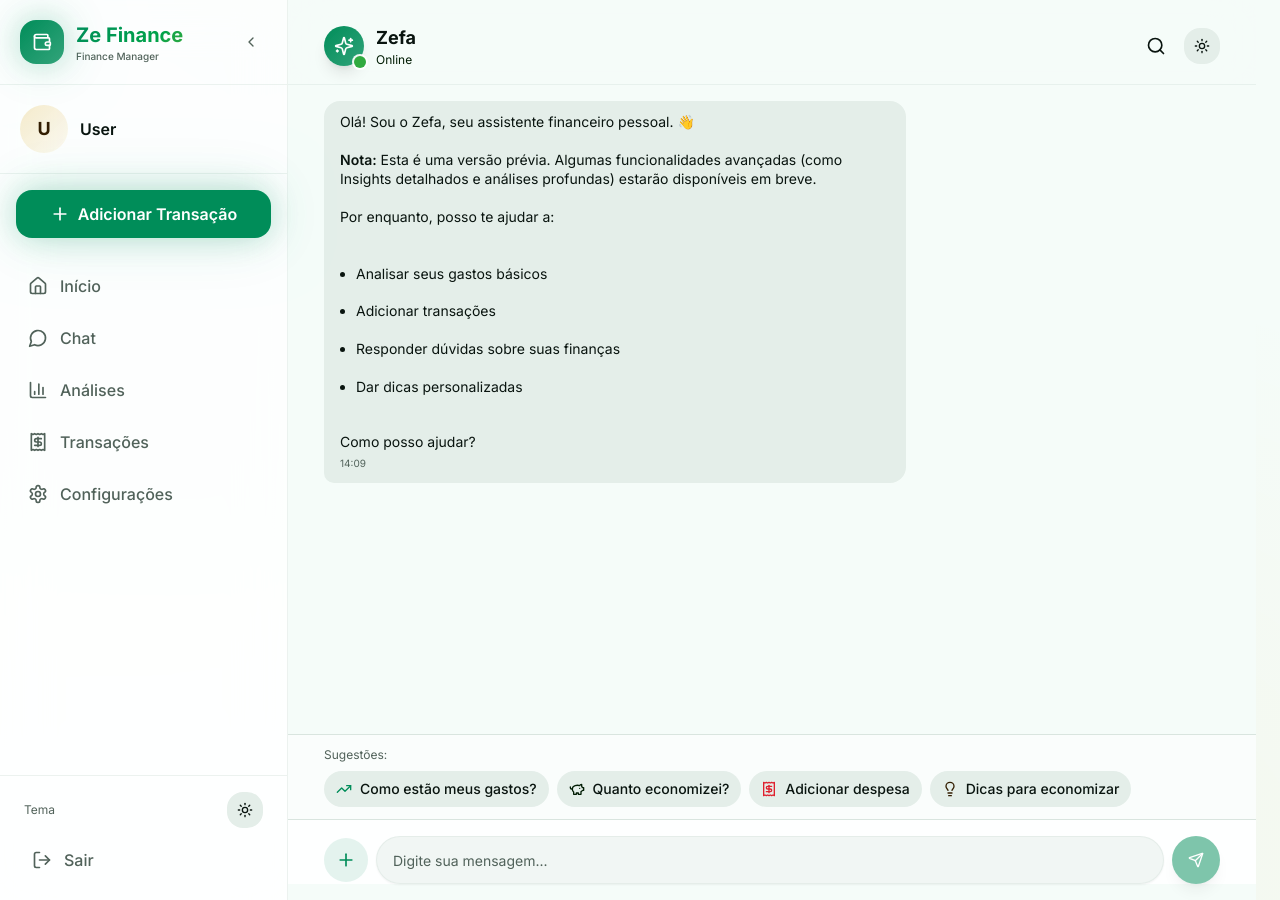
it: Chat Integration Tests › should handle network errors and show retry button
The width and height of the screenshot is (1280, 900).
In the field with placeholder "Digite sua mensagem...": (770, 860) [376,836,1164,884], type "Teste erro"
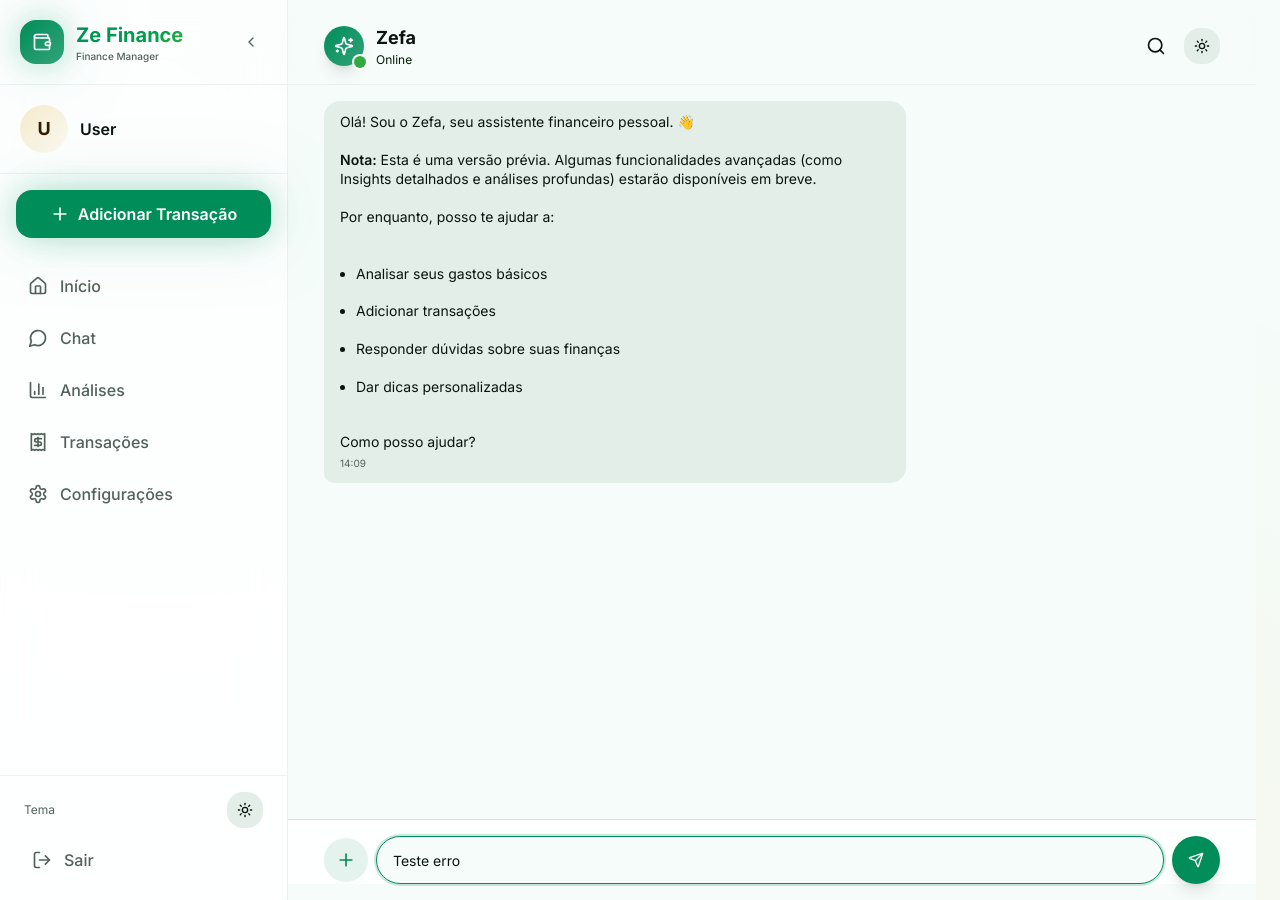
Click the button named "enviar": (1196, 860) [1172,836,1220,884]
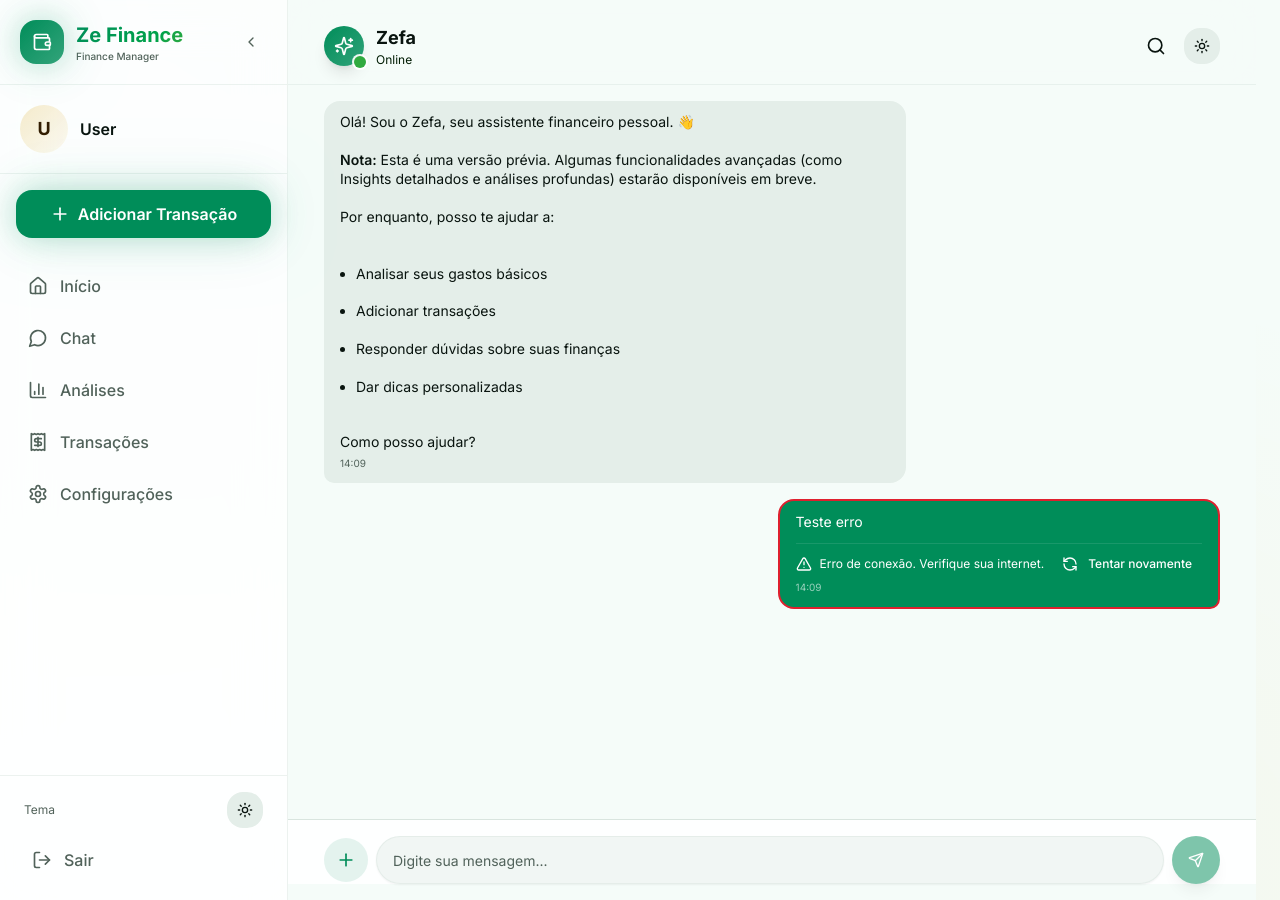
Now the text "Erro de conexão. Verifique sua internet." is shown, box [820,556,1044,572]
Now the button "Tentar novamente" is shown, box [1052,552,1202,576]
